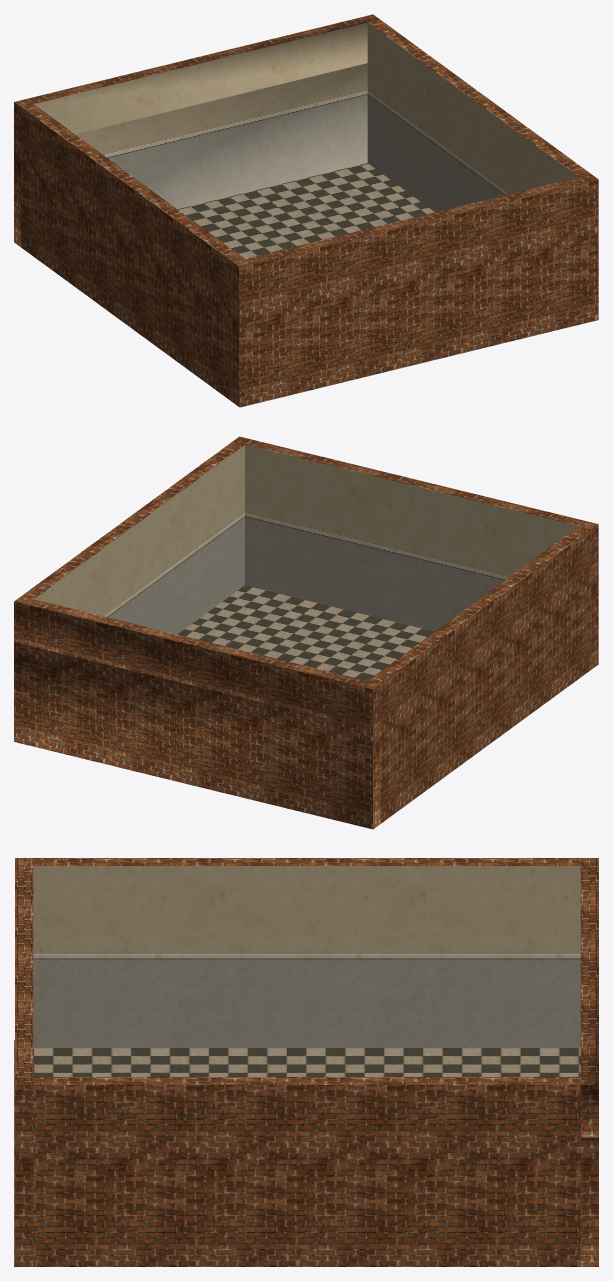
File: SuperMarketUnder.fbx
The picture shows the model from 3 angles, top to bottom: view 1: azimuth 30°, elevation 25°; view 2: azimuth 150°, elevation 25°; view 3: azimuth 270°, elevation 25°; orthographic projection. The views are drawn at different scales.
Parts seen in each view (by area): view 1: WallFront1.001, WallFront1, WallSide2, WallSide1, Floor; view 2: WallFront1, WallFront1.001, WallSide2, WallSide1, Floor; view 3: WallSide1, WallSide2, Floor, WallFront1, WallFront1.001.
Boxes of the visible parts, bbox=[...] form: WallFront1.001: bbox=[232, 174, 598, 407]; WallFront1: bbox=[14, 14, 379, 246]; WallSide2: bbox=[21, 104, 244, 401]; WallSide1: bbox=[367, 19, 590, 212]; Floor: bbox=[178, 163, 598, 407]; WallFront1: bbox=[14, 596, 380, 829]; WallFront1.001: bbox=[233, 436, 598, 668]; WallSide2: bbox=[368, 526, 591, 823]; WallSide1: bbox=[21, 441, 244, 634]; Floor: bbox=[178, 585, 434, 680]; WallSide1: bbox=[33, 1077, 580, 1266]; WallSide2: bbox=[33, 858, 580, 1047]; Floor: bbox=[14, 1040, 580, 1266]; WallFront1: bbox=[580, 858, 598, 1266]; WallFront1.001: bbox=[15, 858, 33, 1266].
Bounding box in the file's own units: 7.6 × 2.84 × 8.28.
